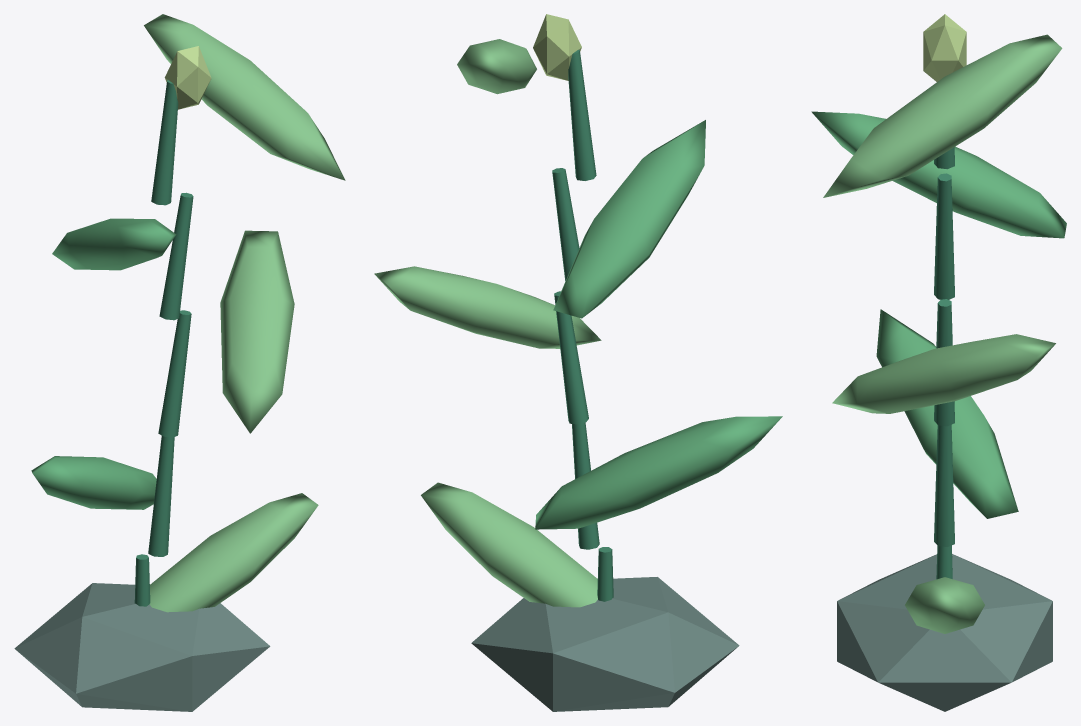
Rendered from ocean-scenery-25.glb.
3 views of the same model, side by side, from view 1: azimuth 30°, elevation 25°; view 2: azimuth 150°, elevation 25°; view 3: azimuth 270°, elevation 25° (orthographic). The views are drawn at different scales.
Visible parts, largest first — view 1: Swaying kelp frond; view 2: Swaying kelp frond; view 3: Swaying kelp frond.
Boxes of the visible parts, box(x1,y1,x2,y2) form: Swaying kelp frond: box(14, 14, 345, 711); Swaying kelp frond: box(374, 14, 782, 711); Swaying kelp frond: box(811, 14, 1066, 711).
Bounding box in the file's own units: 1.25 × 2.38 × 0.8065.
